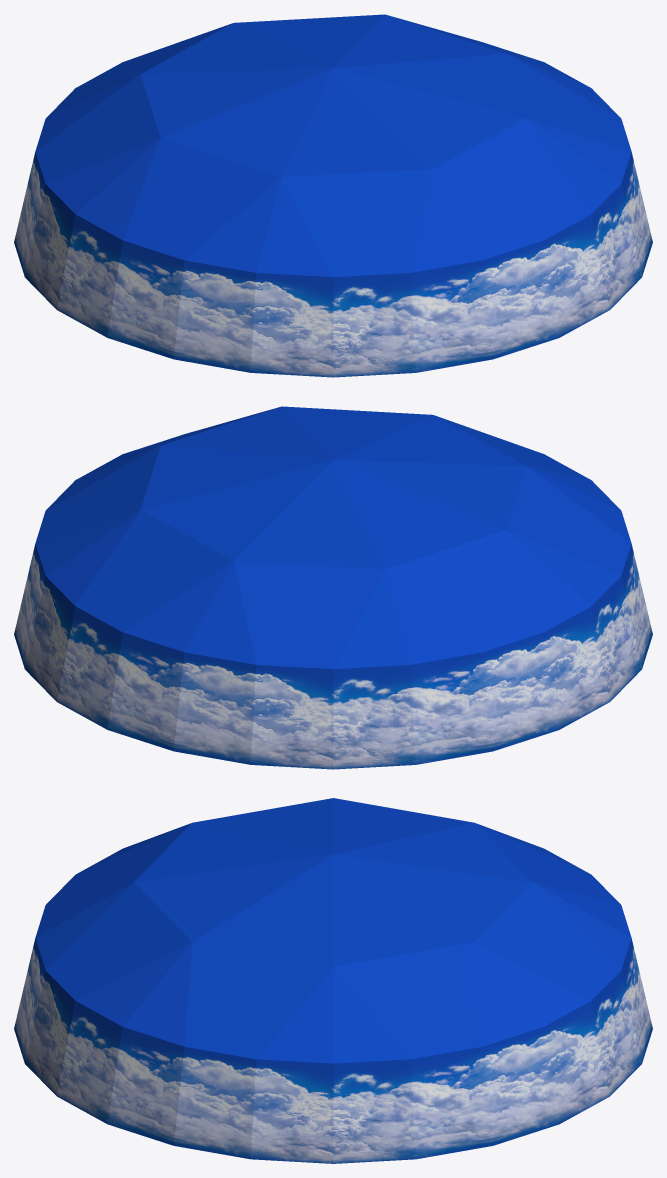
Rendered from Turtle_shell.obj.
3 views of the same model, one above another, from view 1: azimuth 30°, elevation 25°; view 2: azimuth 150°, elevation 25°; view 3: azimuth 270°, elevation 25° (orthographic).
Parts seen in each view (by area): view 1: obj2; view 2: obj2; view 3: obj2.
Boxes of the visible parts, left/top/right/bottom form: obj2: left=14, top=14, right=652, bottom=377; obj2: left=14, top=406, right=652, bottom=769; obj2: left=14, top=798, right=652, bottom=1163.
Bounding box in the file's own units: 180000 × 54707 × 180000.
